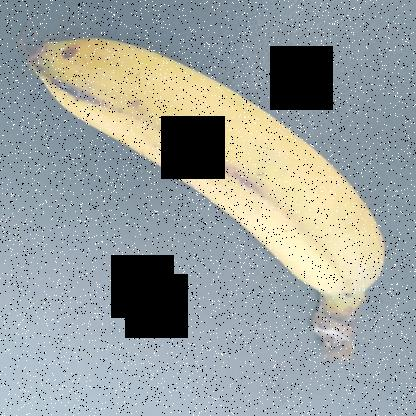freshripe: (30, 28, 376, 285)
